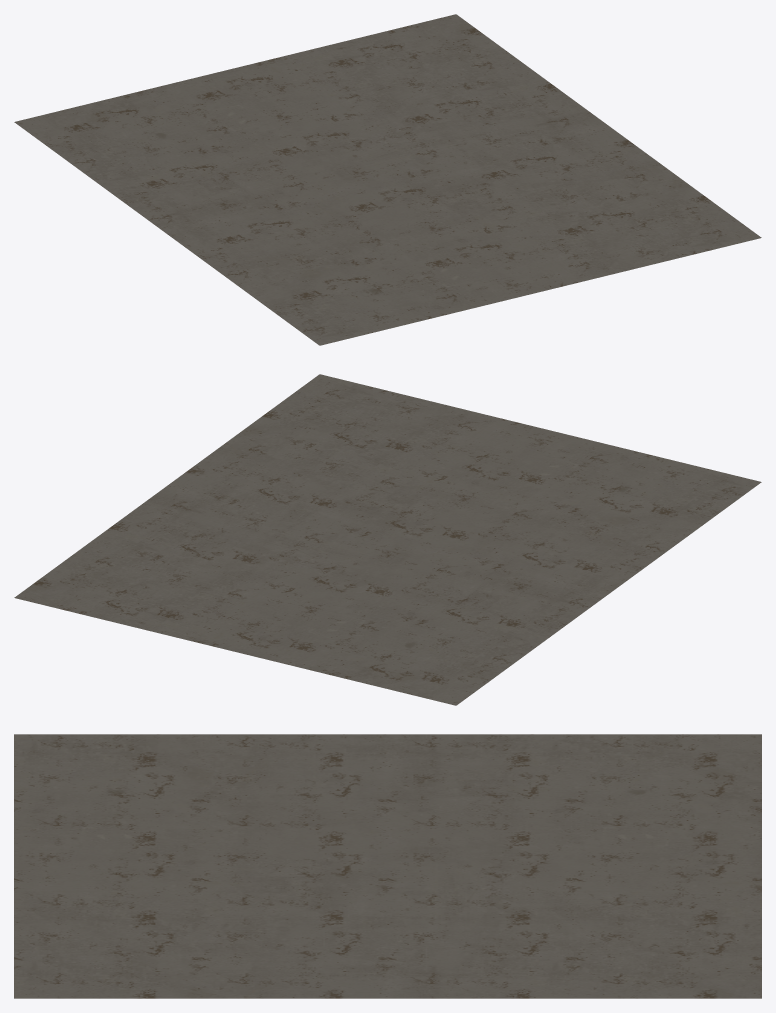
File: Roof neighbor's house.fbx
3 views of the same model, one above another, from view 1: azimuth 30°, elevation 25°; view 2: azimuth 150°, elevation 25°; view 3: azimuth 270°, elevation 25° (orthographic). The views are drawn at different scales.
Visible parts, largest first — view 1: Teto; view 2: Teto; view 3: Teto.
Part boxes in pixels (x1,y1,x2,y2): Teto: (14, 14, 761, 345); Teto: (14, 374, 761, 705); Teto: (14, 734, 761, 998).
Size of the model in its own units: 1499 by 0 by 1795.
